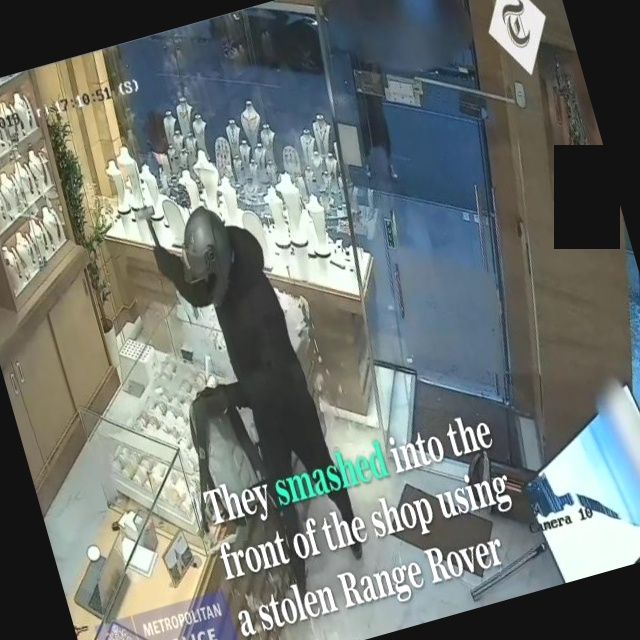gun: (127, 195, 180, 277)
